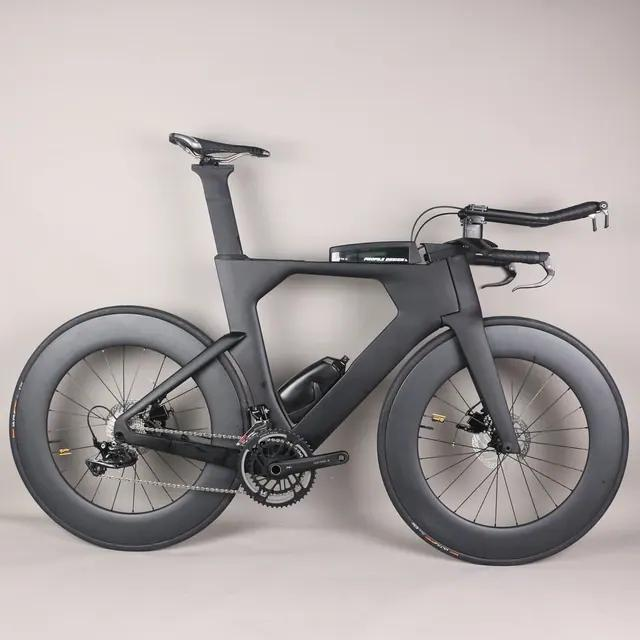TT-bike: (7, 128, 632, 569)
